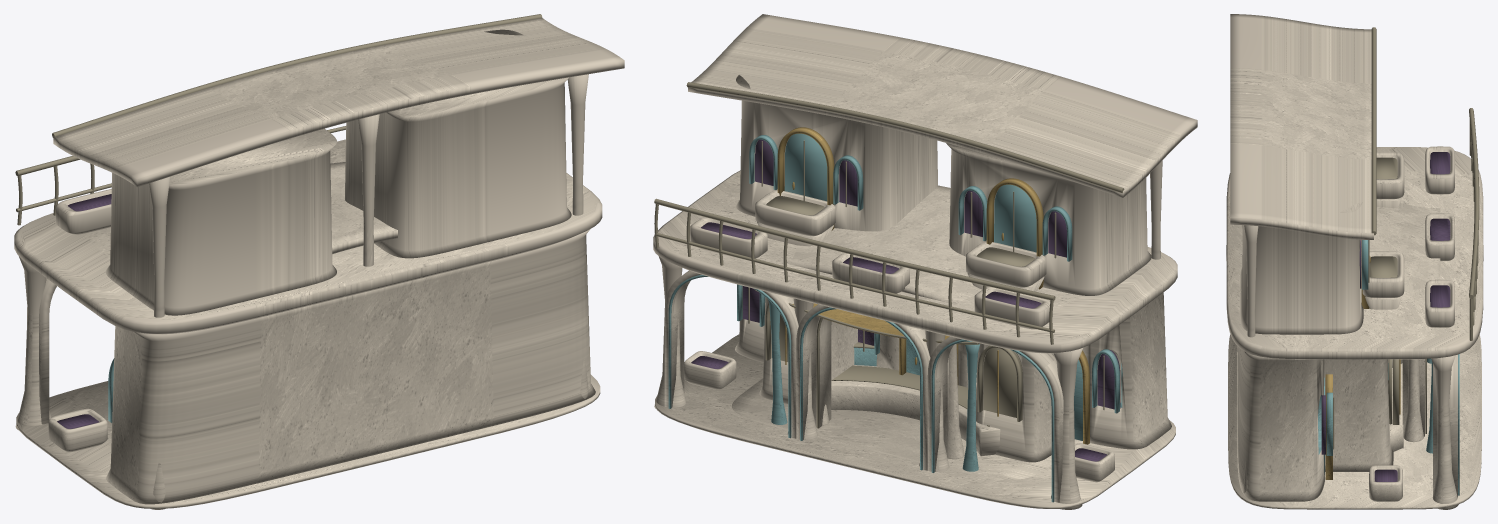
Rendered from commons_backdrop_kit_v1.glb.
3 views of the same model, side by side, from view 1: azimuth 30°, elevation 25°; view 2: azimuth 150°, elevation 25°; view 3: azimuth 270°, elevation 25° (orthographic). The views are drawn at different scales.
Visible parts, largest first — view 1: civic_arcade__structure, civic_arcade__details, civic_alcove__structure; view 2: civic_arcade__structure, civic_arcade__details, civic_alcove__structure, civic_alcove__details, curved_garden_parapet__structure, low_market_canopy__structure, curved_garden_parapet__details; view 3: civic_arcade__structure, civic_alcove__structure, civic_arcade__details, civic_alcove__details, curved_garden_parapet__structure, low_market_canopy__structure.
Boxes of the visible parts, x1,y1,x2,y2 form: civic_arcade__structure: (14, 18, 624, 509); civic_arcade__details: (16, 14, 542, 428); civic_alcove__structure: (102, 162, 397, 419); civic_arcade__structure: (653, 14, 1197, 509); civic_arcade__details: (654, 82, 1124, 502); civic_alcove__structure: (732, 185, 1082, 479); civic_alcove__details: (765, 196, 1034, 428); curved_garden_parapet__structure: (831, 347, 1000, 456); low_market_canopy__structure: (768, 299, 980, 471); curved_garden_parapet__details: (831, 342, 989, 426); civic_arcade__structure: (1226, 14, 1483, 509); civic_alcove__structure: (1324, 152, 1440, 476); civic_arcade__details: (1321, 27, 1478, 495); civic_alcove__details: (1369, 157, 1426, 433); curved_garden_parapet__structure: (1388, 359, 1403, 451); low_market_canopy__structure: (1426, 358, 1432, 453).
Bounding box in the file's own units: 10.3 × 7.18 × 5.46.
Materials: 1 (1 with a texture image).
